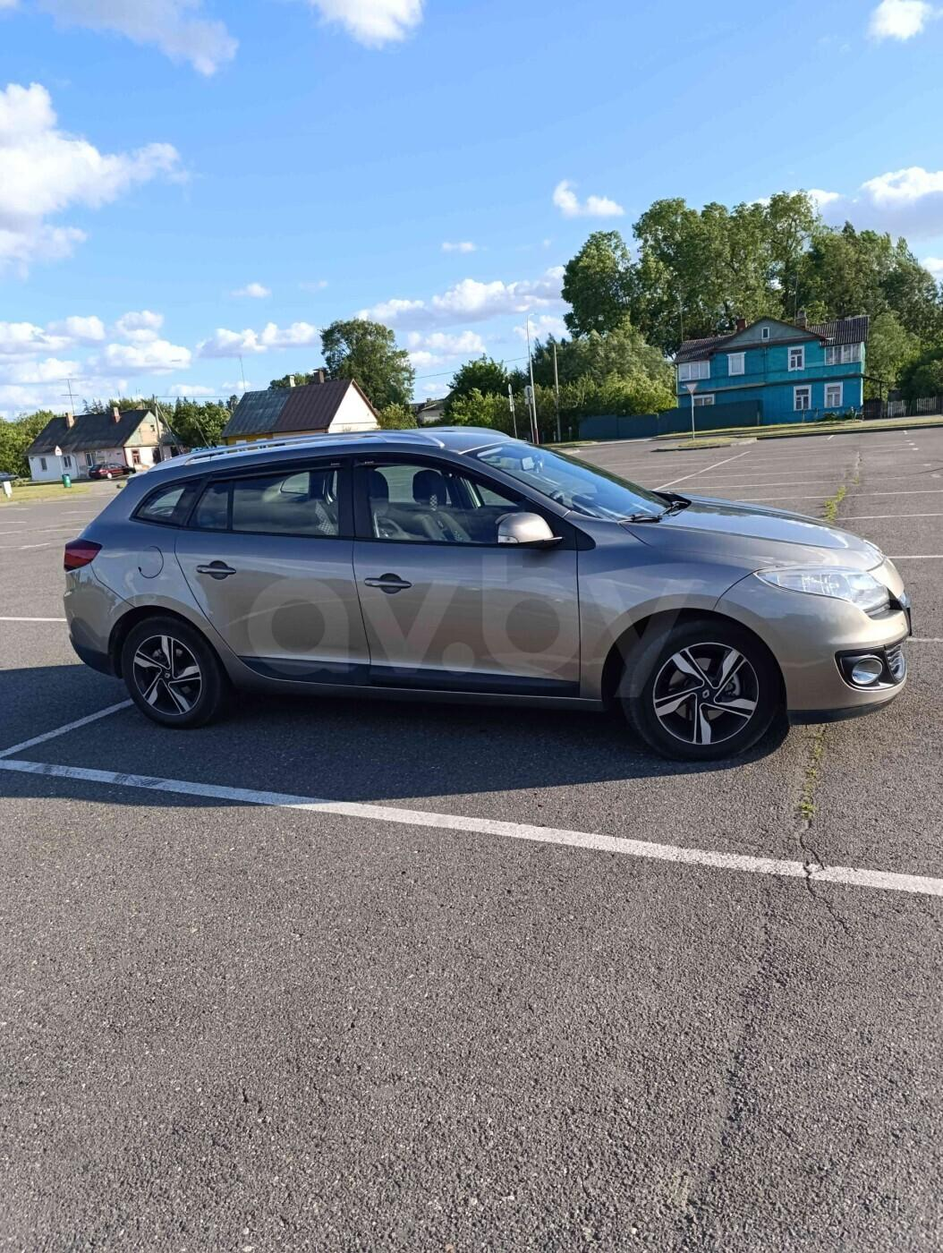Megane_2012-2014: (63, 417, 914, 754)
